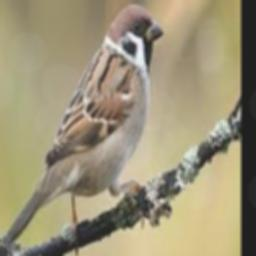Sparrow: (4, 4, 163, 255)
